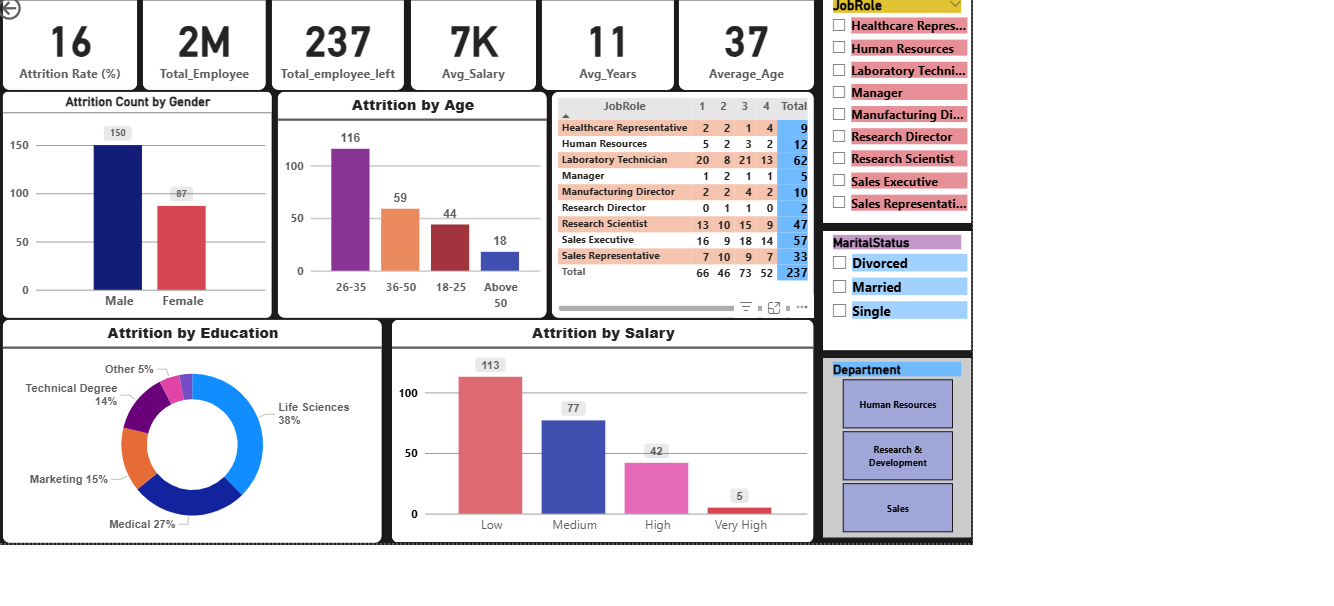

The page's visual inventory and layout, read from the dashboard file:
{"tool":"powerbi","page":{"name":"Page 1","canvas":[1280,720],"ordinal":0},"visuals":[{"type":"card","fields":{"Values":["Employee Attrition Analysis.Attrition Rate (%)"]},"box":[10.3,0,177.8,127.8],"z":0},{"type":"card","fields":{"Values":["Employee Attrition Analysis.Total_Employee"]},"box":[194,0,163.1,127.8],"z":1000},{"type":"card","fields":{"Values":["Employee Attrition Analysis.Total_employee_left"]},"box":[362.9,0,174.9,127.8],"z":2000},{"type":"columnChart","title":"Attrition Count by Gender","fields":{"Category":["Employee Attrition Analysis.Gender"],"Y":["CountNonNull(Employee Attrition Analysis.EmployeeNumber)"]},"box":[10.3,127.8,354.1,298.3],"z":3000},{"type":"card","fields":{"Values":["Employee Attrition Analysis.Avg_Salary"]},"box":[545.1,0,166,127.8],"z":4000},{"type":"card","fields":{"Values":["Employee Attrition Analysis.Avg_Years"]},"box":[715.6,0,174.9,127.8],"z":5000},{"type":"card","fields":{"Values":["Employee Attrition Analysis.Average_Age"]},"box":[894.9,0,179.3,127.8],"z":6000},{"type":"donutChart","title":"Attrition by Education","fields":{"Category":["Employee Attrition Analysis.EducationField"],"Y":["Sum(Employee Attrition Analysis.AttritionFlag)"]},"box":[10.3,426.1,498.1,293.9],"z":7000},{"type":"columnChart","title":"Attrition by Age","fields":{"Category":["Employee Attrition Analysis.Age Group"],"Y":["Sum(Employee Attrition Analysis.AttritionFlag)"]},"box":[370.3,127.8,354.1,298.3],"z":8000},{"type":"pivotTable","title":"Attrition by Age","fields":{"Rows":["Employee Attrition Analysis.JobRole"],"Columns":["Employee Attrition Analysis.JobSatisfaction"],"Values":["Sum(Employee Attrition Analysis.AttritionFlag)"]},"box":[728.8,127.8,345.3,298.3],"z":9000},{"type":"actionButton","box":[0,0,100,40],"z":10000},{"type":"slicer","fields":{"Values":["Employee Attrition Analysis.JobRole"]},"box":[1085.9,0,194,301.2],"z":11000},{"type":"columnChart","title":"Attrition by Salary","fields":{"Category":["Employee Attrition Analysis.SalaryBand"],"Y":["CountNonNull(Employee Attrition Analysis.EmployeeNumber)"]},"box":[520.2,426.1,554,293.9],"z":12000},{"type":"slicer","fields":{"Values":["Employee Attrition Analysis.MaritalStatus"]},"box":[1085.9,311.5,194,155.8],"z":13000},{"type":"slicer","fields":{"Values":["Employee Attrition Analysis.Department"]},"box":[1085.9,477.6,194,235.1],"z":14000}]}

Visuals, with their boxes on the page's 1280x720 design canvas (x1, y1, x2, y2). These are canvas units, not pixel positions in the 1334x606 screenshot, which may show the page scaled, cropped or inside an application window:
card - Employee Attrition Analysis.Attrition Rate (%): BBox(10, 0, 188, 128)
card - Employee Attrition Analysis.Total_Employee: BBox(194, 0, 357, 128)
card - Employee Attrition Analysis.Total_employee_left: BBox(363, 0, 538, 128)
"Attrition Count by Gender" columnChart: BBox(10, 128, 364, 426)
card - Employee Attrition Analysis.Avg_Salary: BBox(545, 0, 711, 128)
card - Employee Attrition Analysis.Avg_Years: BBox(716, 0, 890, 128)
card - Employee Attrition Analysis.Average_Age: BBox(895, 0, 1074, 128)
"Attrition by Education" donutChart: BBox(10, 426, 508, 720)
"Attrition by Age" columnChart: BBox(370, 128, 724, 426)
"Attrition by Age" pivotTable: BBox(729, 128, 1074, 426)
actionButton: BBox(0, 0, 100, 40)
slicer - Employee Attrition Analysis.JobRole: BBox(1086, 0, 1280, 301)
"Attrition by Salary" columnChart: BBox(520, 426, 1074, 720)
slicer - Employee Attrition Analysis.MaritalStatus: BBox(1086, 312, 1280, 467)
slicer - Employee Attrition Analysis.Department: BBox(1086, 478, 1280, 713)
